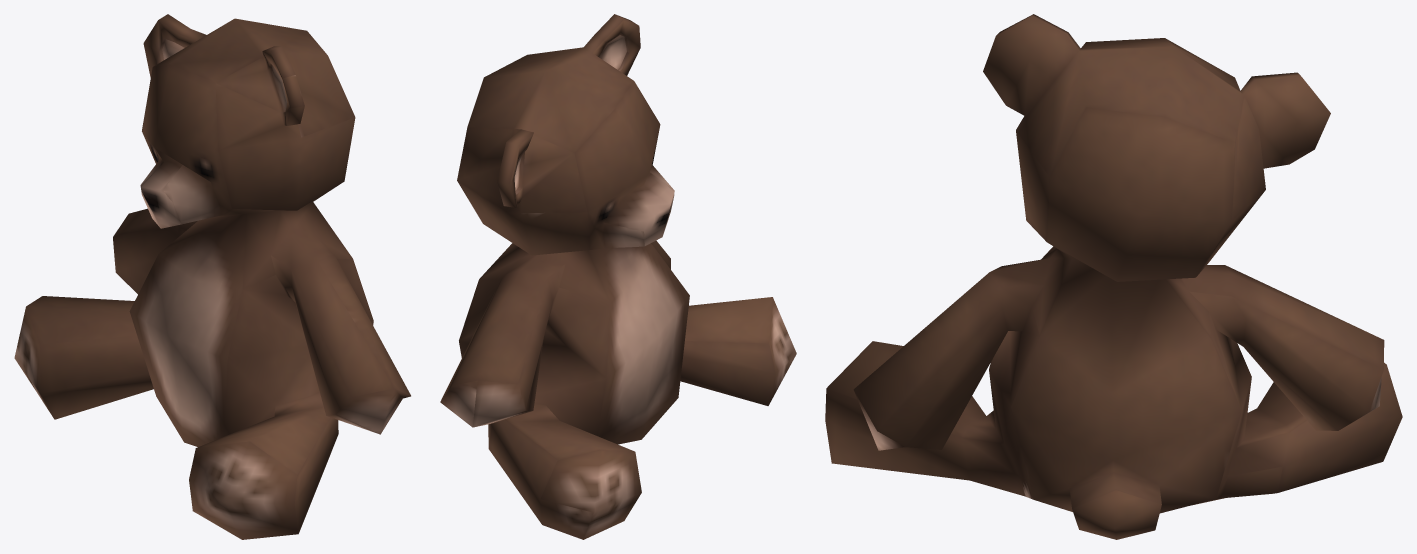
The model's file is teddy_bear.glb.
3 renders of one model, left to right at view 1: azimuth 30°, elevation 25°; view 2: azimuth 150°, elevation 25°; view 3: azimuth 270°, elevation 25°, orthographic. The views are drawn at different scales.
Visible parts, largest first — view 1: obj_teddy; view 2: obj_teddy; view 3: obj_teddy.
Boxes of the visible parts, box(x1,y1,x2,y2) form: obj_teddy: box(14, 14, 410, 539); obj_teddy: box(440, 14, 796, 539); obj_teddy: box(825, 14, 1402, 539).
Bounding box in the file's own units: 2.52 × 3.99 × 4.13.
1 material, 1 textured.
